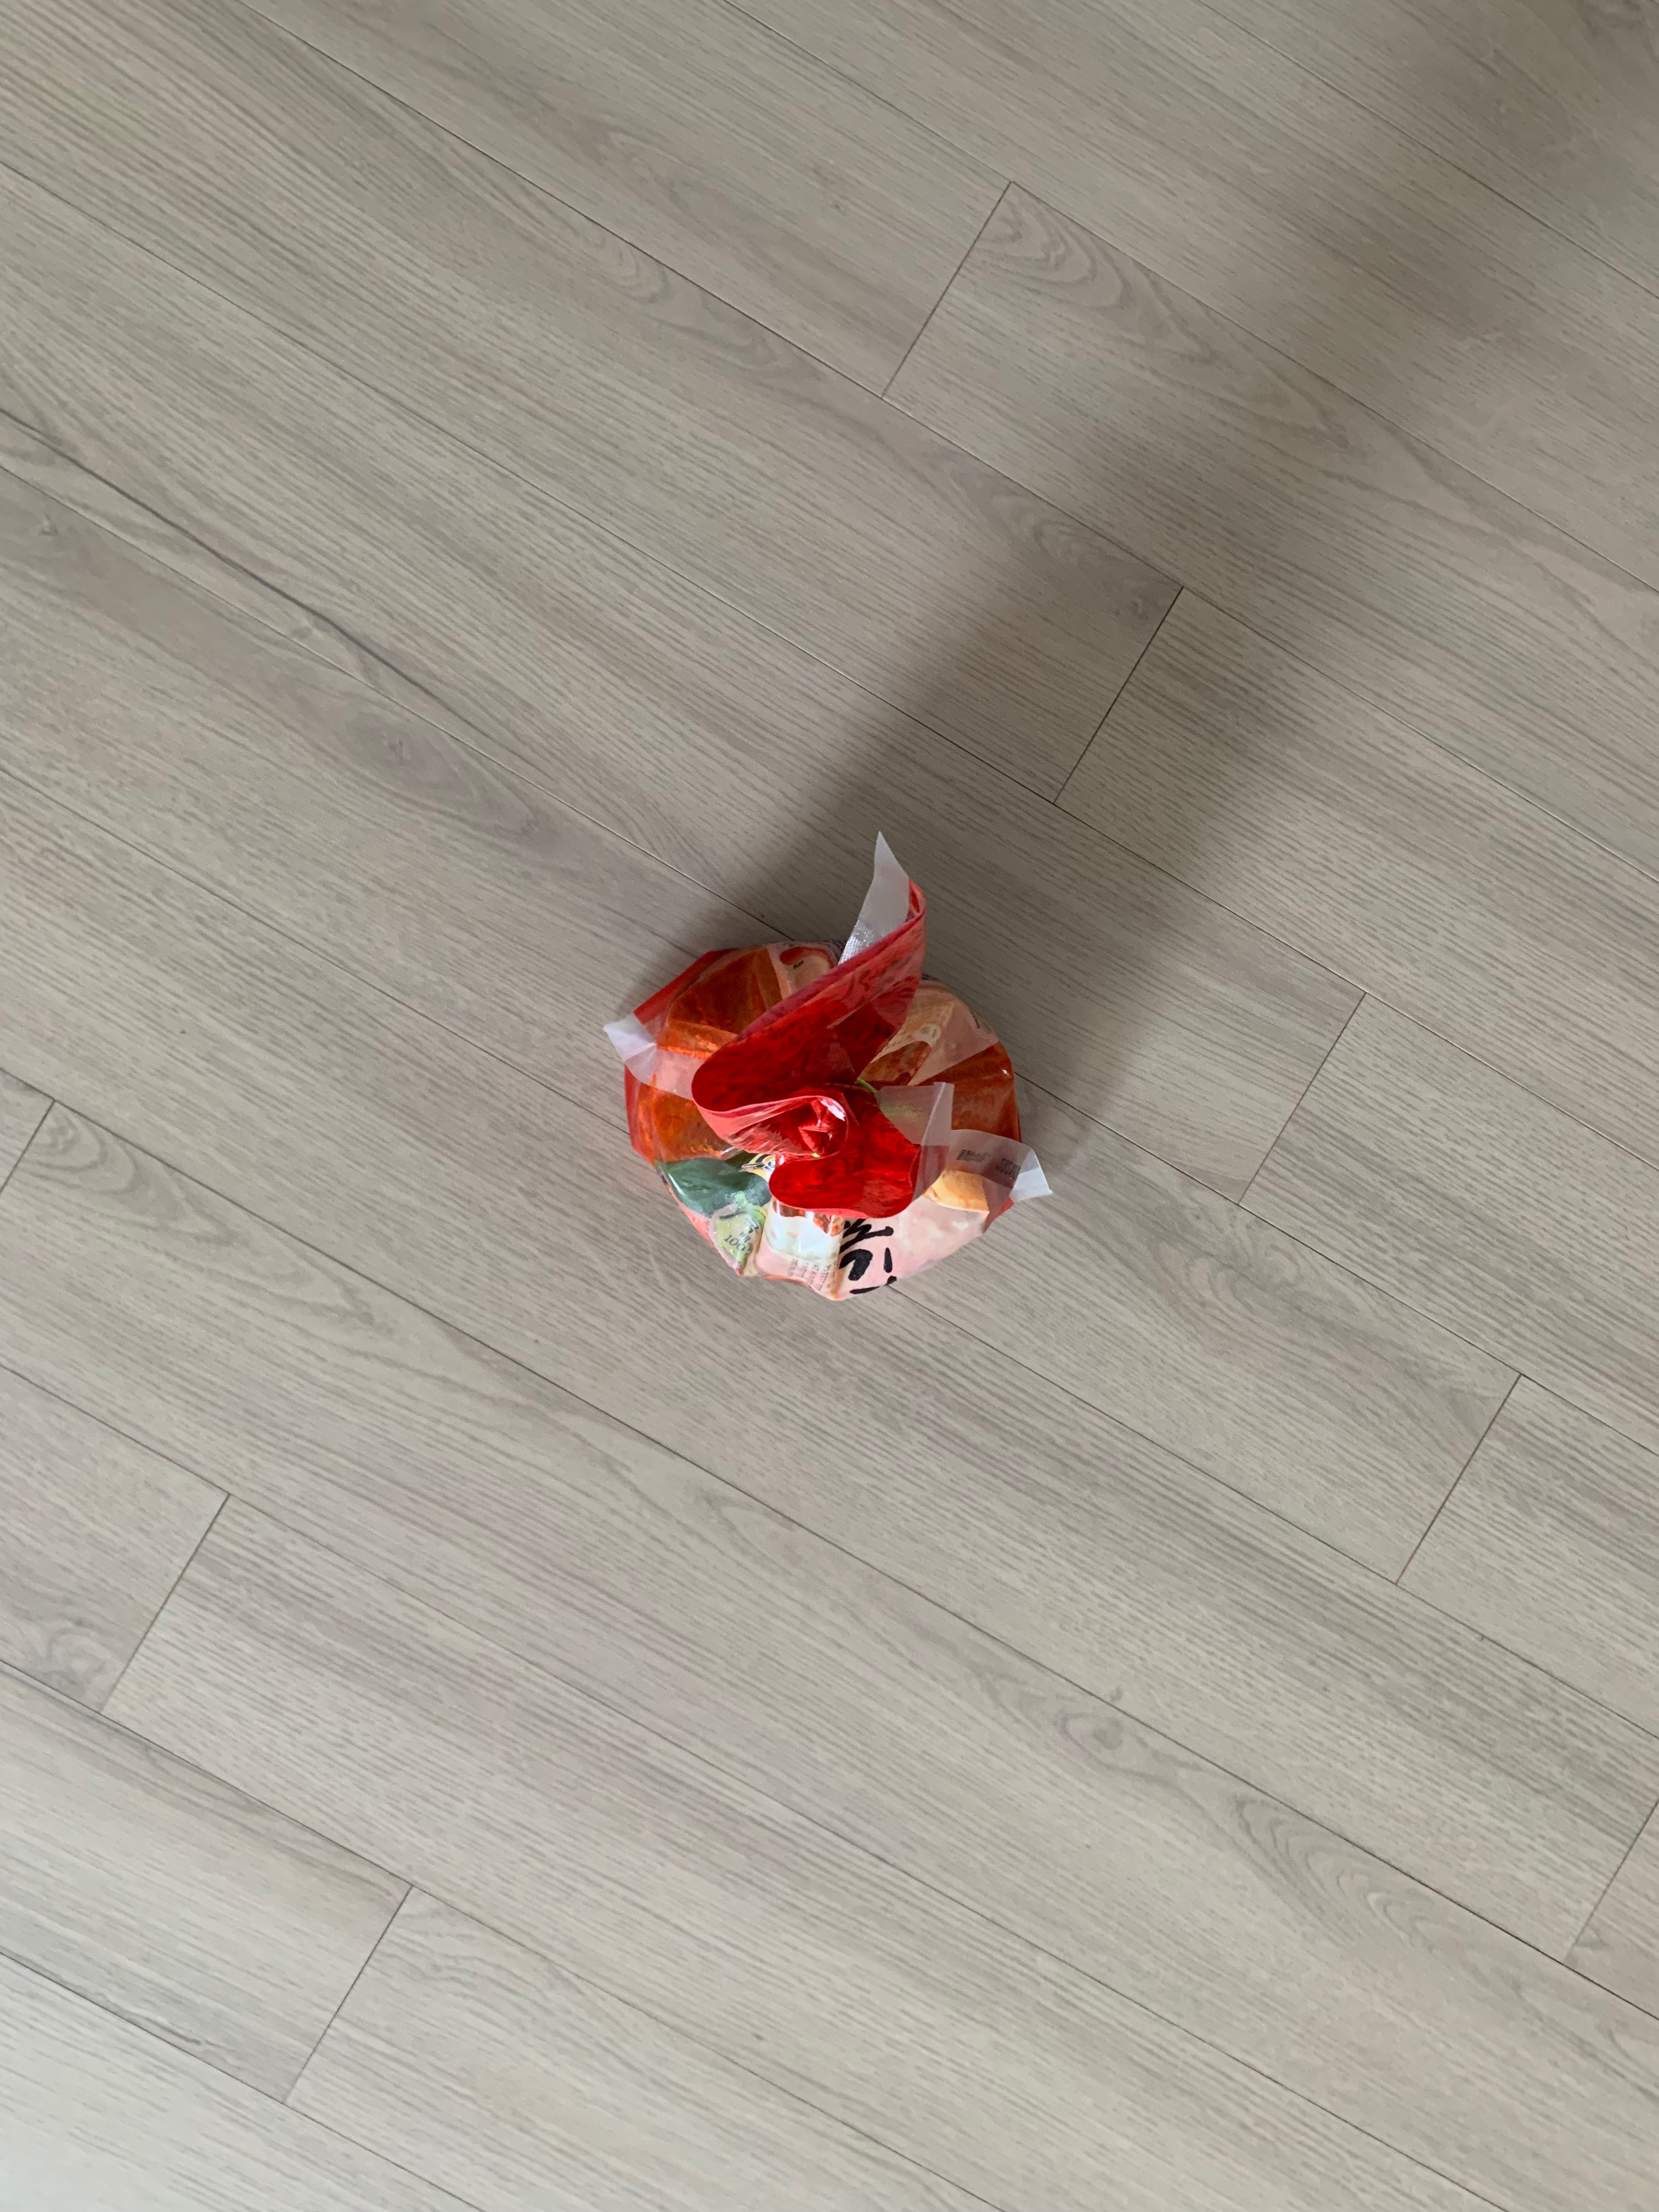kimchi: (615, 921, 1032, 1291)
